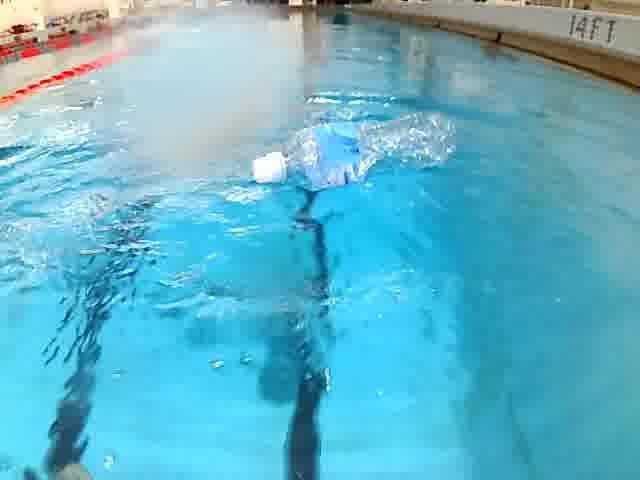Bottle: (253, 106, 458, 196)
